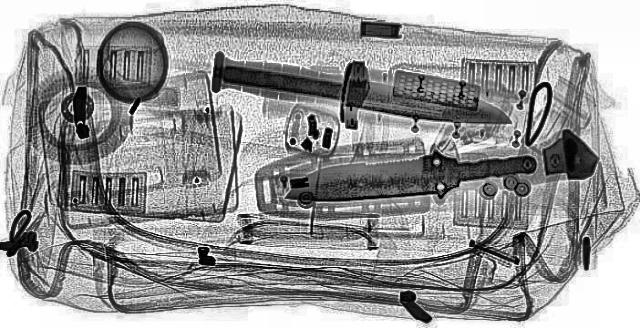Knife: (167, 35, 538, 153), (262, 135, 550, 215)
